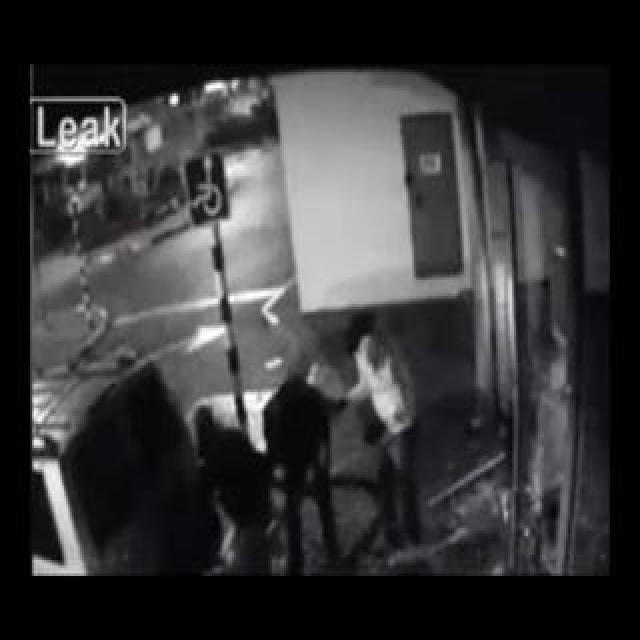thief: (192, 381, 346, 512), (311, 280, 399, 418)
